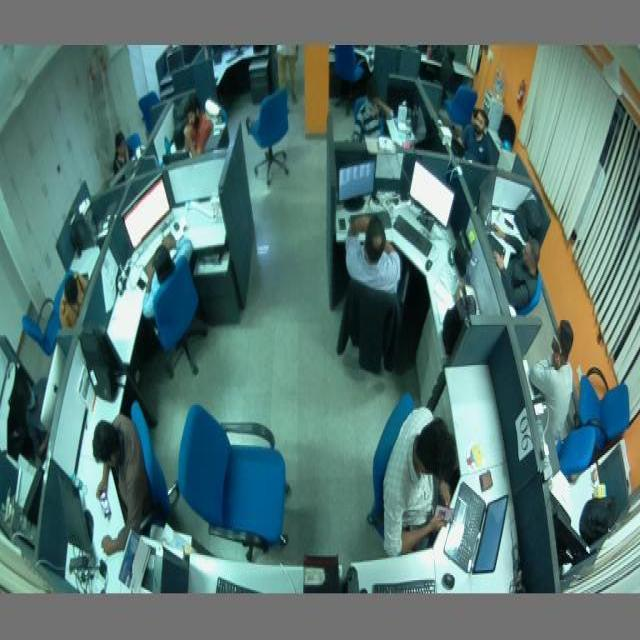chair: (174, 402, 295, 561), (364, 387, 420, 541), (148, 258, 211, 377), (338, 284, 411, 381), (130, 401, 181, 531), (244, 90, 296, 188), (577, 359, 632, 446), (20, 295, 66, 355), (559, 424, 598, 488), (444, 84, 486, 124), (336, 45, 366, 98), (525, 274, 544, 318), (140, 87, 162, 123), (126, 128, 142, 154)
keyboard: (393, 212, 435, 258), (212, 574, 271, 596), (350, 208, 396, 232), (373, 577, 438, 593)
laptop: (447, 477, 509, 580)
monitor: (119, 174, 175, 248), (407, 161, 455, 231), (58, 474, 96, 558), (550, 502, 593, 566), (38, 342, 66, 428), (336, 158, 378, 204), (478, 166, 501, 222)
person: (382, 406, 458, 556), (94, 415, 150, 557), (532, 320, 574, 450), (142, 230, 194, 323), (342, 218, 404, 292), (490, 220, 540, 310), (18, 373, 52, 455), (178, 93, 212, 160), (354, 83, 388, 142), (56, 270, 90, 328), (460, 108, 494, 165), (276, 45, 300, 105), (112, 132, 136, 176)
phone: (434, 501, 456, 531), (96, 491, 116, 521), (135, 272, 149, 292), (336, 213, 348, 232)
